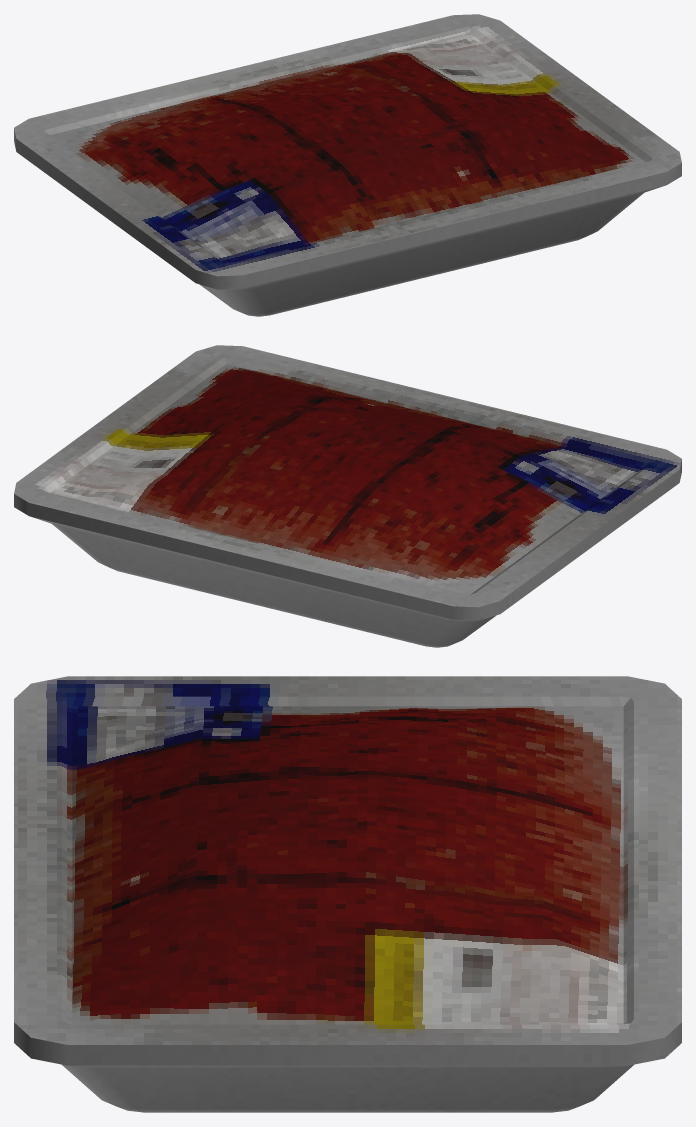
Rendered from meat_1.glb.
The picture shows the model from 3 angles, top to bottom: view 1: azimuth 30°, elevation 25°; view 2: azimuth 150°, elevation 25°; view 3: azimuth 270°, elevation 25°; orthographic projection. The views are drawn at different scales.
Parts seen in each view (by area): view 1: meat_1; view 2: meat_1; view 3: meat_1.
Part boxes in pixels (x1,y1,x2,y2): meat_1: [14, 14, 681, 316]; meat_1: [14, 345, 681, 647]; meat_1: [14, 676, 681, 1112].
Bounding box in the file's own units: 0.342 × 0.0752 × 0.2619.
1 material, 1 textured.
